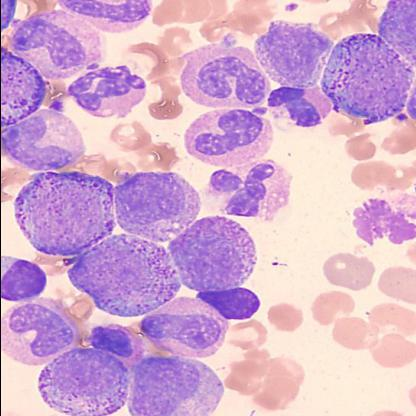Promyelocyte: (70, 235, 178, 318), (36, 348, 132, 416)
